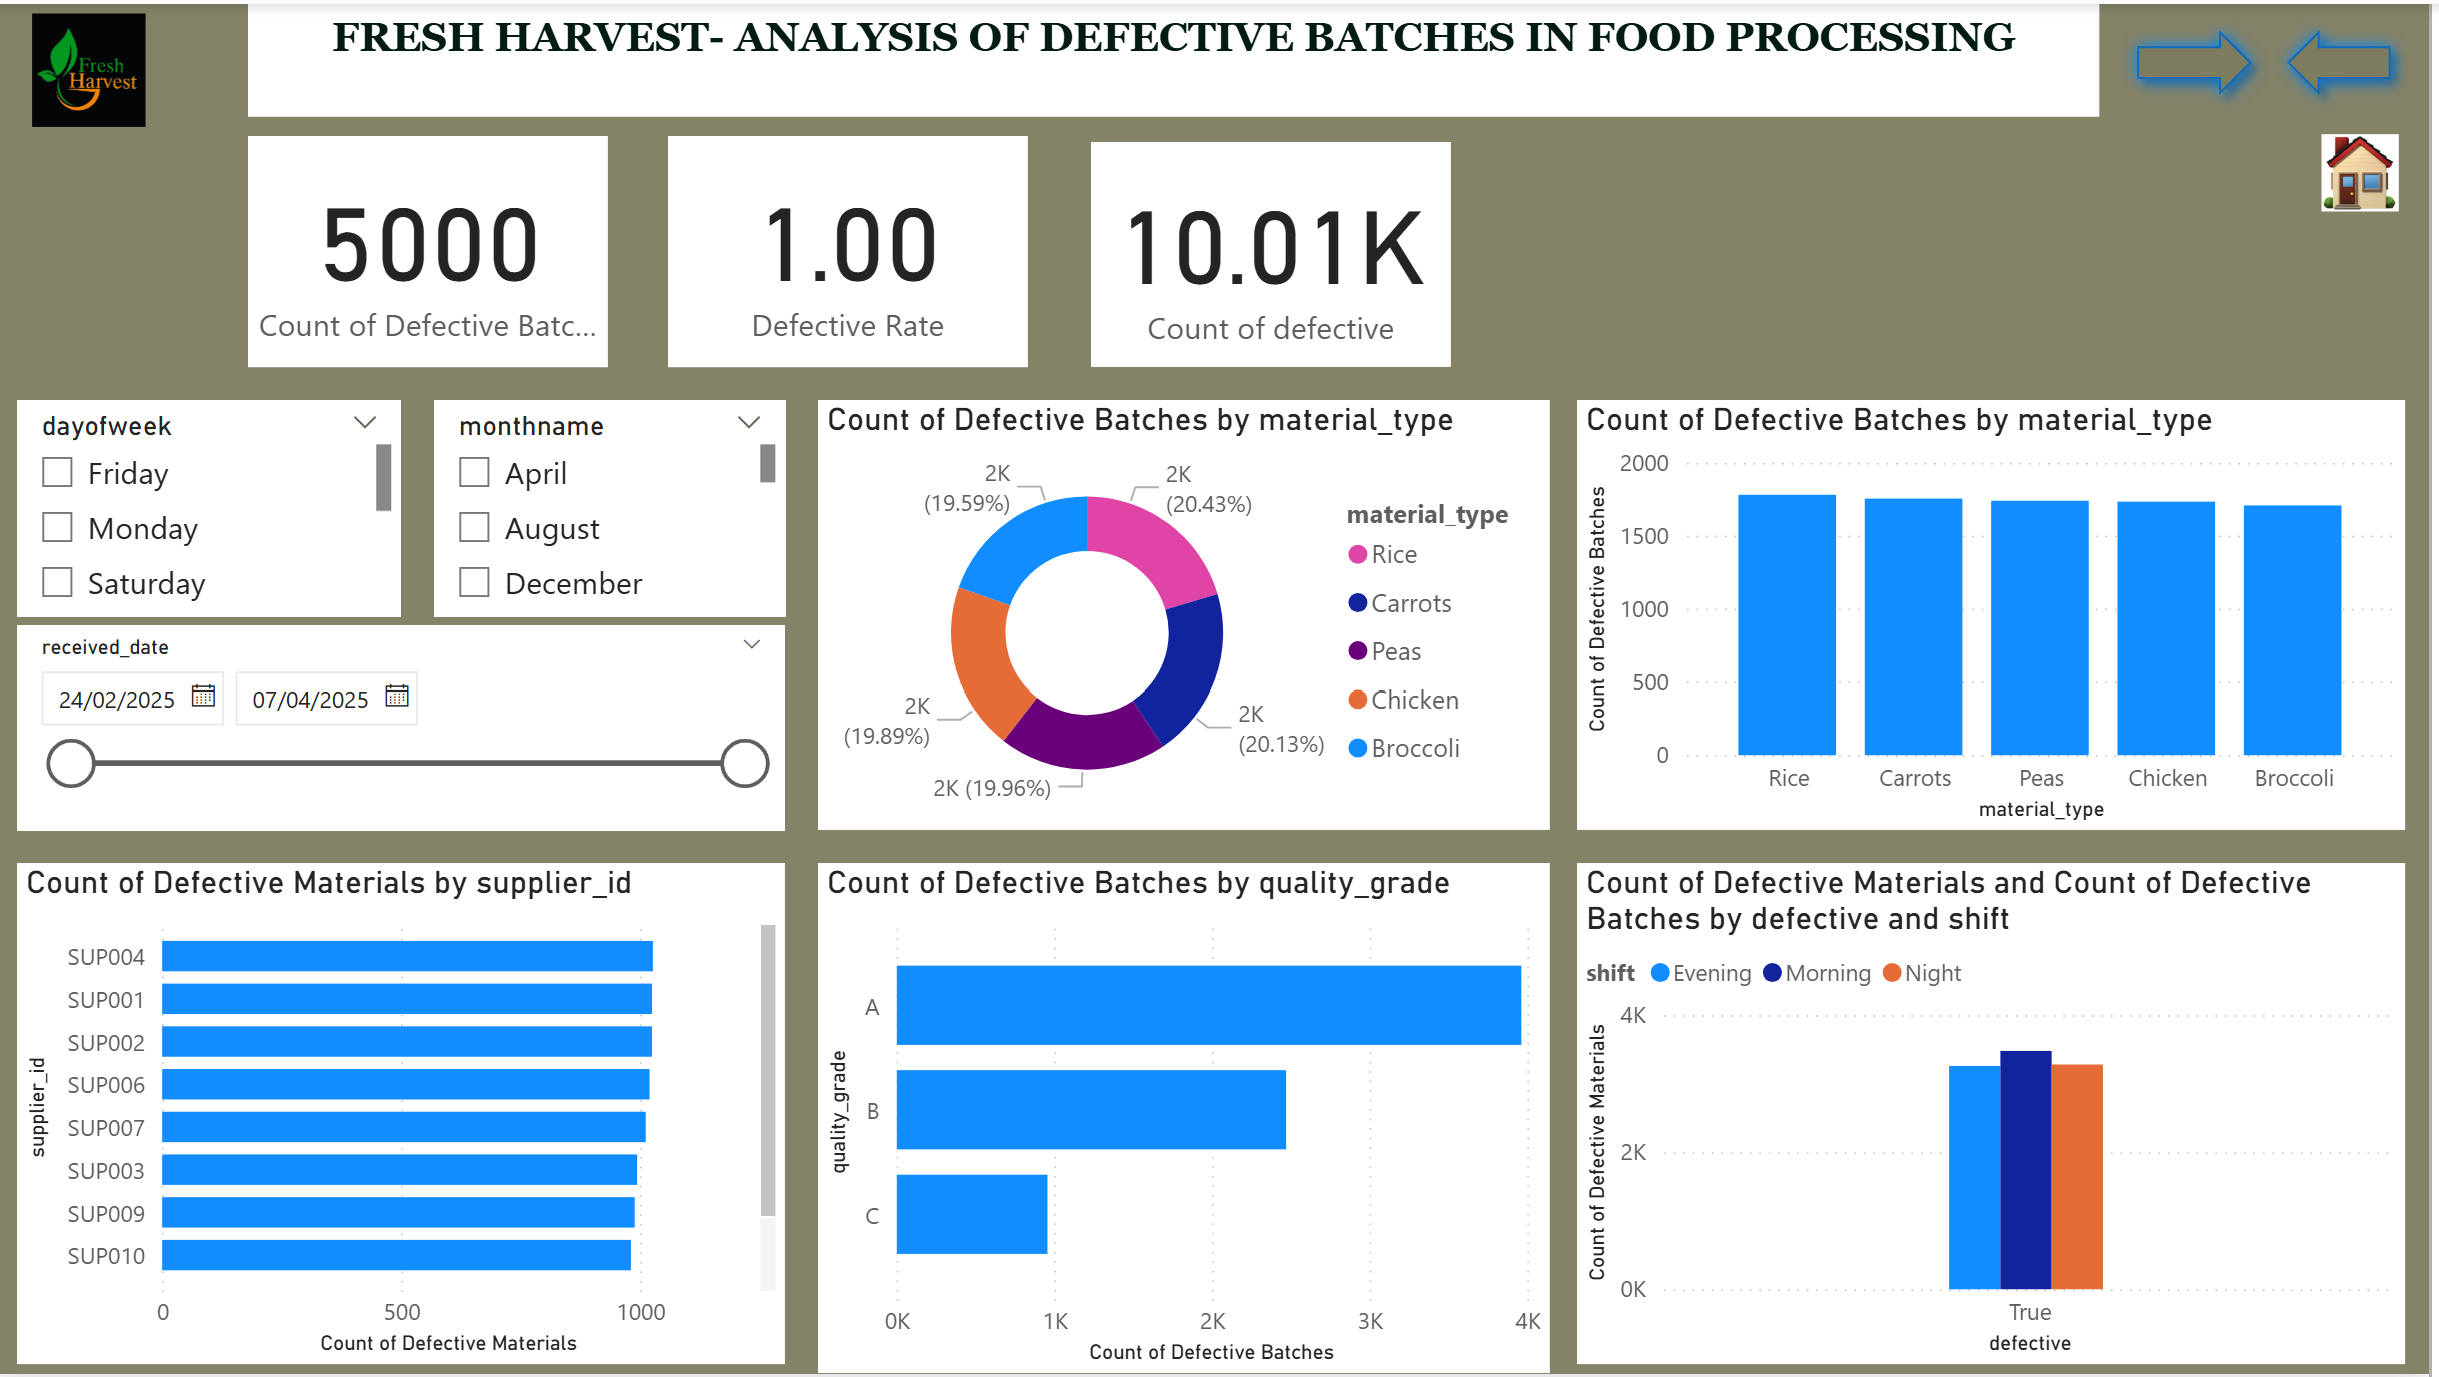

Layout of this report page (visuals, bound fields, positions):
{"tool":"powerbi","page":{"name":"Batch","canvas":[1280,720],"ordinal":1},"visuals":[{"type":"textbox","box":[133.3,0,973.9,59.4],"z":0},{"type":"image","box":[0,0,97.7,69.8],"z":1000},{"type":"slicer","fields":{"Values":["Calendar.dayofweek"]},"box":[11,208.3,202,113.6],"z":5000},{"type":"shape","box":[1117.4,4.3,78.3,52.2],"z":7000},{"type":"shape","box":[1195.7,4.3,72.5,52.2],"z":8000},{"type":"image","box":[1217.9,56.7,50.7,64.2],"z":9000},{"type":"clusteredColumnChart","fields":{"Y":["Raw_Material_Info.Count of Defective Batches"],"Category":["Raw_Material_Info.material_type"]},"box":[831.8,208.3,435.6,225.7],"z":10000},{"type":"donutChart","fields":{"Category":["Raw_Material_Info.material_type"],"Y":["Raw_Material_Info.Count of Defective Batches"]},"box":[432.5,208.3,385.1,225.7],"z":11000},{"type":"clusteredBarChart","fields":{"Category":["Raw_Material_Info.quality_grade"],"Y":["Raw_Material_Info.Count of Defective Batches"]},"box":[432.5,451.4,385.1,268.3],"z":12000},{"type":"clusteredColumnChart","fields":{"Category":["Raw_Material_Info.defective"],"Y":["Raw_Material_Info.Count of Defective Materials"],"Series":["Batch_Production.shift"]},"box":[831.8,451.4,435.6,263.6],"z":12001},{"type":"clusteredBarChart","fields":{"Y":["Raw_Material_Info.Count of Defective Materials"],"Category":["Raw_Material_Info.supplier_id"]},"box":[11,451.4,404,263.6],"z":12002},{"type":"slicer","fields":{"Values":["Raw_Material_Info.received_date"]},"box":[11,326.7,404,107.3],"z":12004},{"type":"slicer","fields":{"Values":["Calendar.monthname"]},"box":[230.4,208.3,184.7,113.6],"z":12005},{"type":"card","fields":{"Values":["CountNonNull(Raw_Material_Info.defective)"]},"box":[576.1,72.6,189.4,118.4],"z":12007},{"type":"card","fields":{"Values":["Raw_Material_Info.Defective Rate"]},"box":[353.5,69.4,189.4,121.5],"z":12008},{"type":"card","fields":{"Values":["Raw_Material_Info.Count of Defective Batches"]},"box":[132.6,69.4,189.4,121.5],"z":12010}]}

Visuals, with their boxes in screenshot pixels (x1, y1, x2, y2), scaled from the page's 1280x720 canvas onto the 2439x1377 screenshot:
textbox: 254 0 2110 114
image: 0 0 186 133
slicer - Calendar.dayofweek: 21 398 406 616
shape: 2129 8 2278 108
shape: 2278 8 2417 108
image: 2321 108 2417 231
clusteredColumnChart - Raw_Material_Info.Count of Defective Batches x Raw_Material_Info.material_type: 1585 398 2415 830
donutChart - Raw_Material_Info.material_type x Raw_Material_Info.Count of Defective Batches: 824 398 1558 830
clusteredBarChart - Raw_Material_Info.quality_grade x Raw_Material_Info.Count of Defective Batches: 824 863 1558 1376
clusteredColumnChart - Raw_Material_Info.defective x Raw_Material_Info.Count of Defective Materials: 1585 863 2415 1367
clusteredBarChart - Raw_Material_Info.Count of Defective Materials x Raw_Material_Info.supplier_id: 21 863 791 1367
slicer - Raw_Material_Info.received_date: 21 625 791 830
slicer - Calendar.monthname: 439 398 791 616
card - CountNonNull(Raw_Material_Info.defective): 1098 139 1459 365
card - Raw_Material_Info.Defective Rate: 674 133 1034 365
card - Raw_Material_Info.Count of Defective Batches: 253 133 614 365
